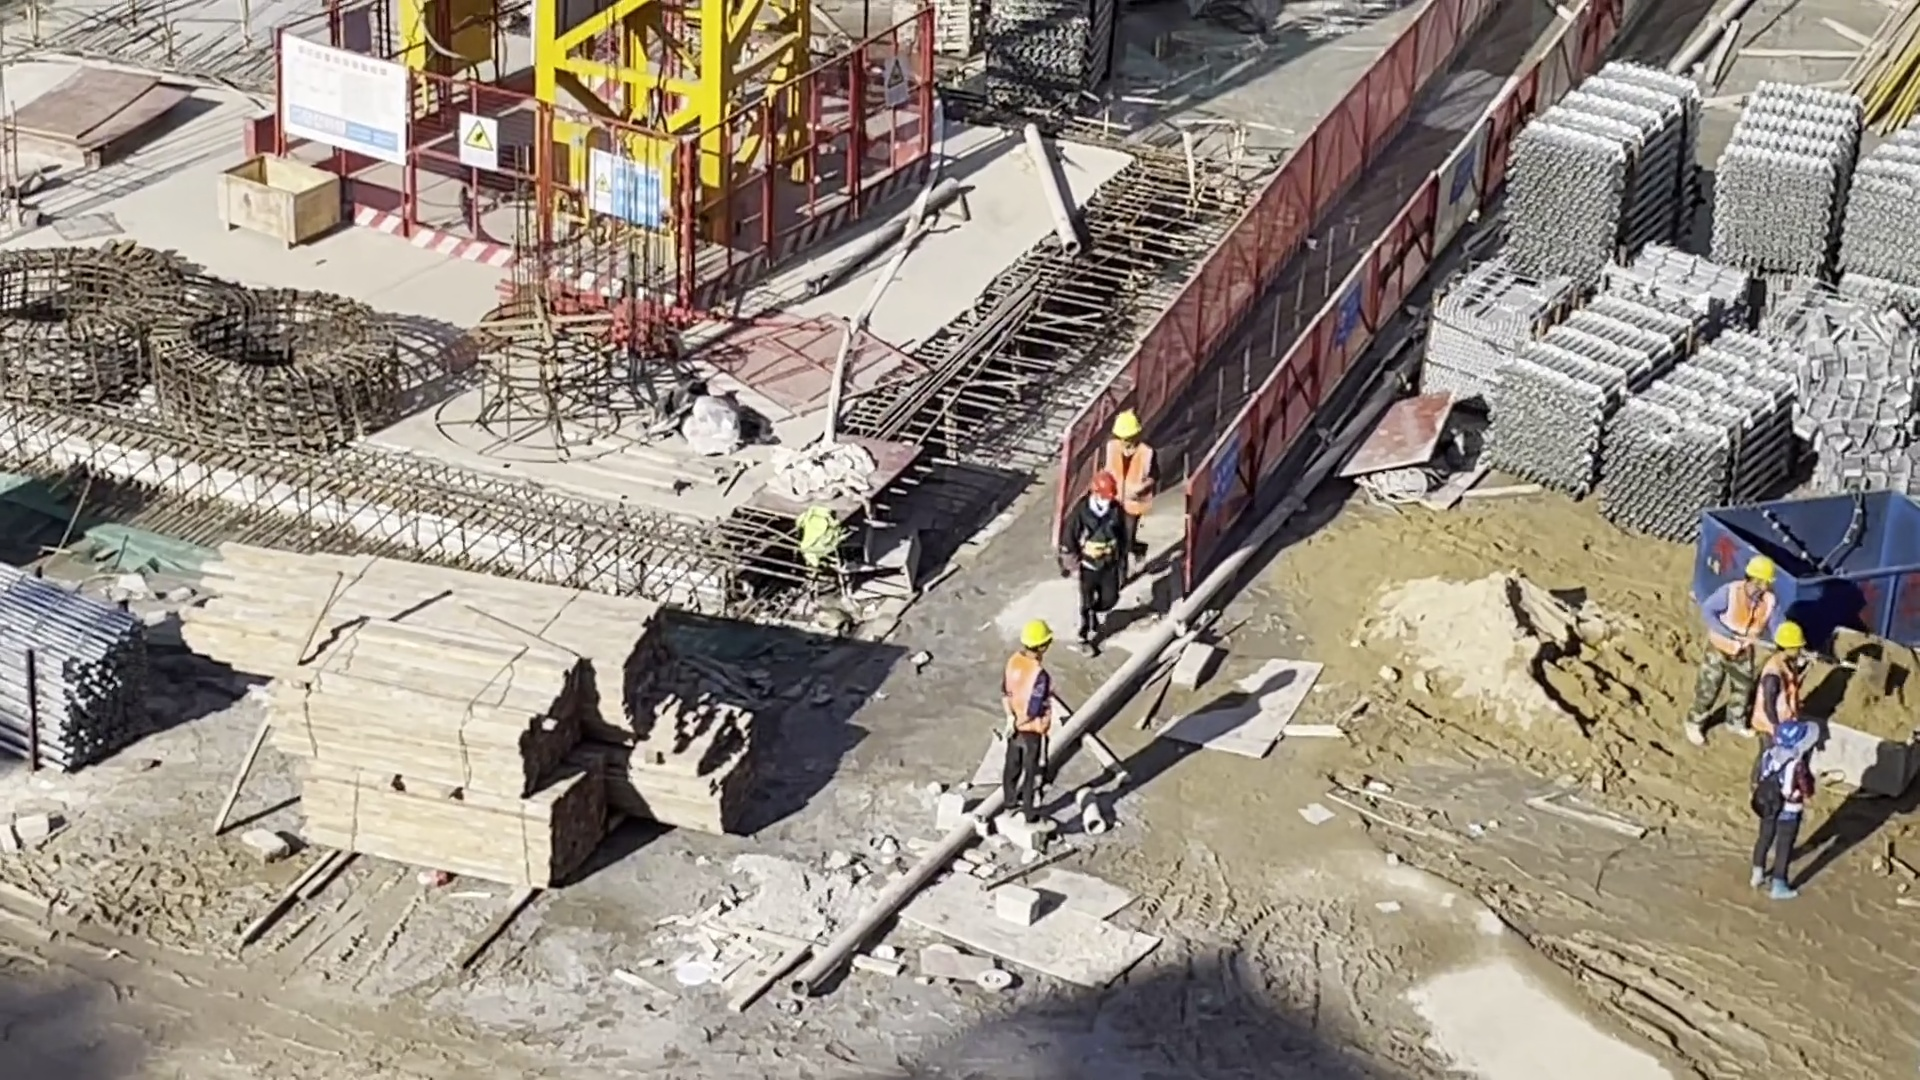board: (8, 73, 175, 158)
ebox: (400, 1, 493, 81)
fence: (1070, 1, 1620, 557)
helmet: (1772, 619, 1806, 648), (1746, 555, 1777, 583), (1021, 622, 1054, 647), (1775, 721, 1805, 746), (1111, 412, 1141, 436), (1091, 472, 1116, 500)
hopper: (1695, 485, 1920, 654), (1815, 624, 1920, 799)
person: (1687, 556, 1777, 748), (996, 622, 1054, 824), (1061, 474, 1124, 658), (1751, 724, 1812, 898), (1098, 410, 1158, 569), (1761, 618, 1809, 760)
scaffold: (1500, 292, 1709, 496), (1606, 333, 1804, 543), (1517, 69, 1694, 274), (1, 564, 146, 769), (1713, 83, 1856, 277), (941, 1, 1111, 92), (1838, 118, 1920, 290)
slogan: (592, 158, 659, 238), (1211, 438, 1243, 511), (1332, 274, 1363, 351), (458, 114, 498, 165), (885, 54, 908, 103)
vest: (1005, 657, 1050, 729), (1106, 445, 1150, 515), (1721, 577, 1769, 641), (1766, 656, 1802, 733), (1754, 758, 1802, 815)
wood: (202, 543, 669, 756), (283, 637, 606, 889)
